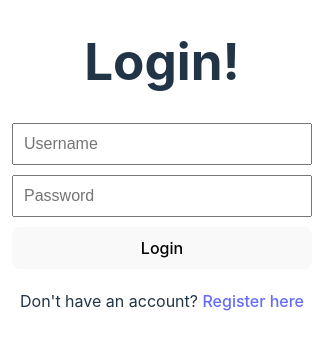
Test case: LoginPage › handles failed login
# Fill in the form
Type "wronguser" into the field with placeholder "Username" at (162, 144), box [12,124,312,166]
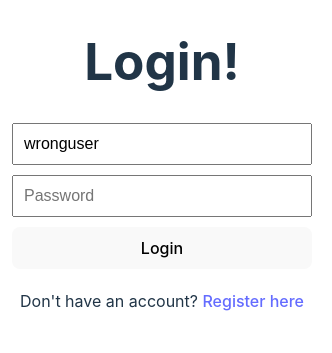
Type "wrongpass" into the password field with placeholder "Password" at (162, 196), box [12,176,312,218]
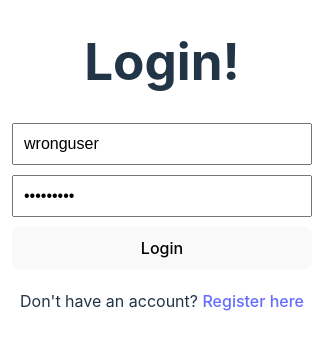
# Submit the form
Click the button "Login" at (162, 248), box [12,228,312,270]
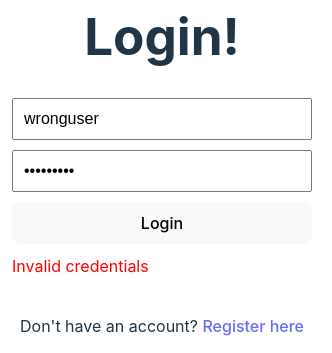
Result: the text "Invalid credentials" is shown at [12,256,149,276]
